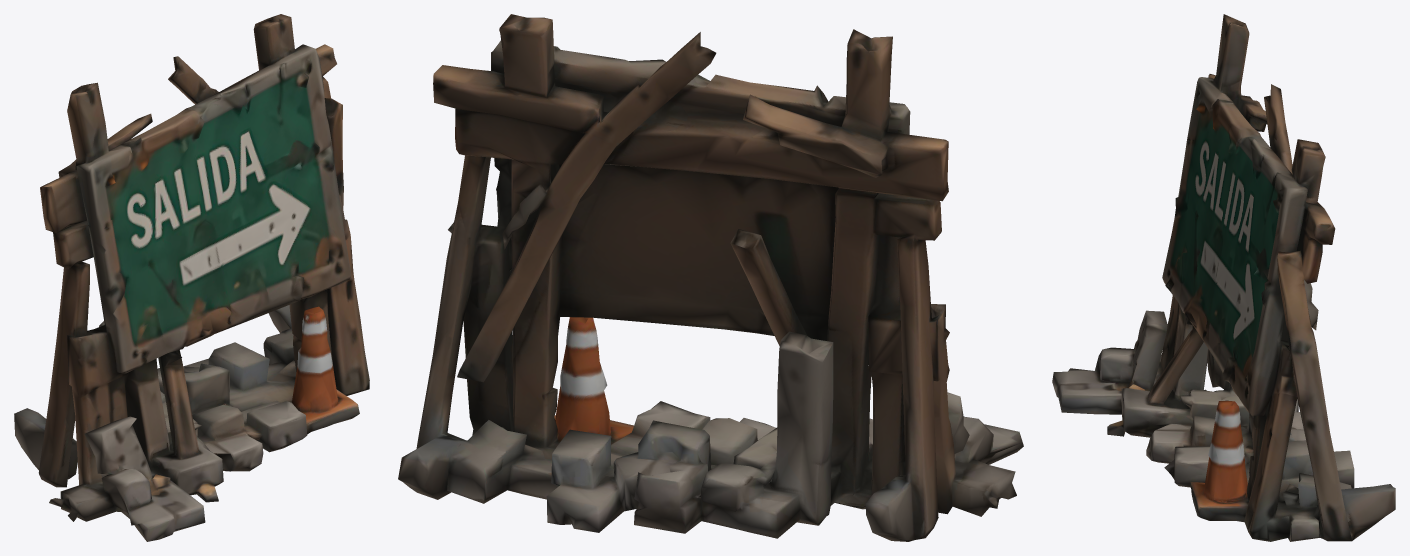
The model's file is SM_Prop_ConstructionSign_01.fbx.
3 views of the same model, side by side, from view 1: azimuth 30°, elevation 25°; view 2: azimuth 150°, elevation 25°; view 3: azimuth 270°, elevation 25° (orthographic). The views are drawn at different scales.
Visible parts, largest first — view 1: SM_Prop_ConstructionSign_01; view 2: SM_Prop_ConstructionSign_01; view 3: SM_Prop_ConstructionSign_01.
Part boxes in pixels (x1,y1,x2,y2): SM_Prop_ConstructionSign_01: [14, 14, 369, 541]; SM_Prop_ConstructionSign_01: [398, 14, 1023, 541]; SM_Prop_ConstructionSign_01: [1052, 14, 1395, 541].
Size of the model in its own units: 0.9901 by 1 by 0.8071.
1 material, 1 textured.
